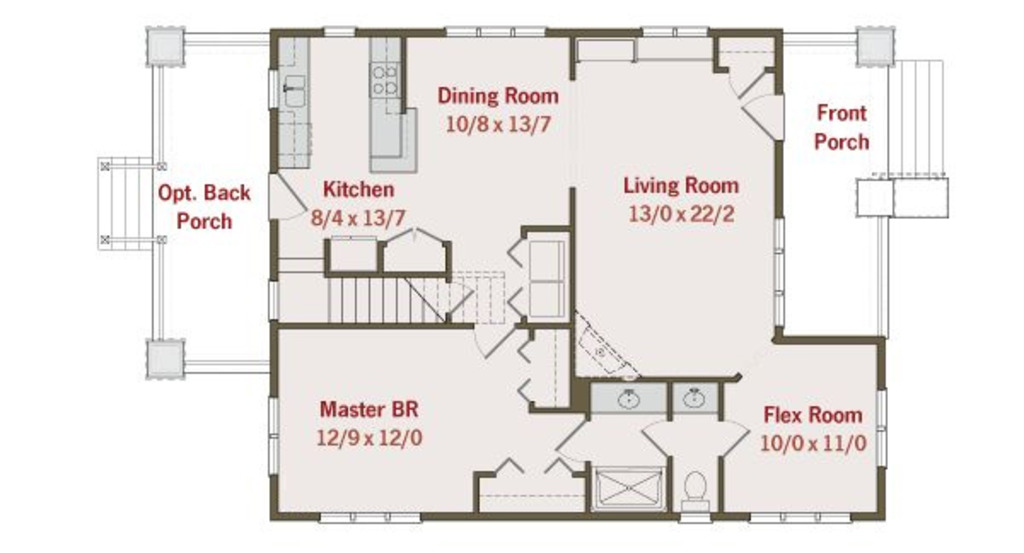door: (744, 85, 789, 144), (376, 212, 446, 247), (264, 172, 311, 218), (557, 416, 591, 461), (643, 411, 673, 456), (726, 66, 765, 98), (717, 418, 750, 455)
large_sink: (669, 464, 720, 517)
small_sink: (595, 385, 725, 416)
stairs: (277, 257, 518, 330)
twin_sink: (276, 72, 314, 115)
window: (311, 502, 424, 531), (260, 390, 290, 475), (770, 207, 790, 331), (746, 508, 855, 530), (444, 20, 545, 42), (641, 21, 706, 40), (876, 388, 889, 471), (324, 17, 361, 39)
